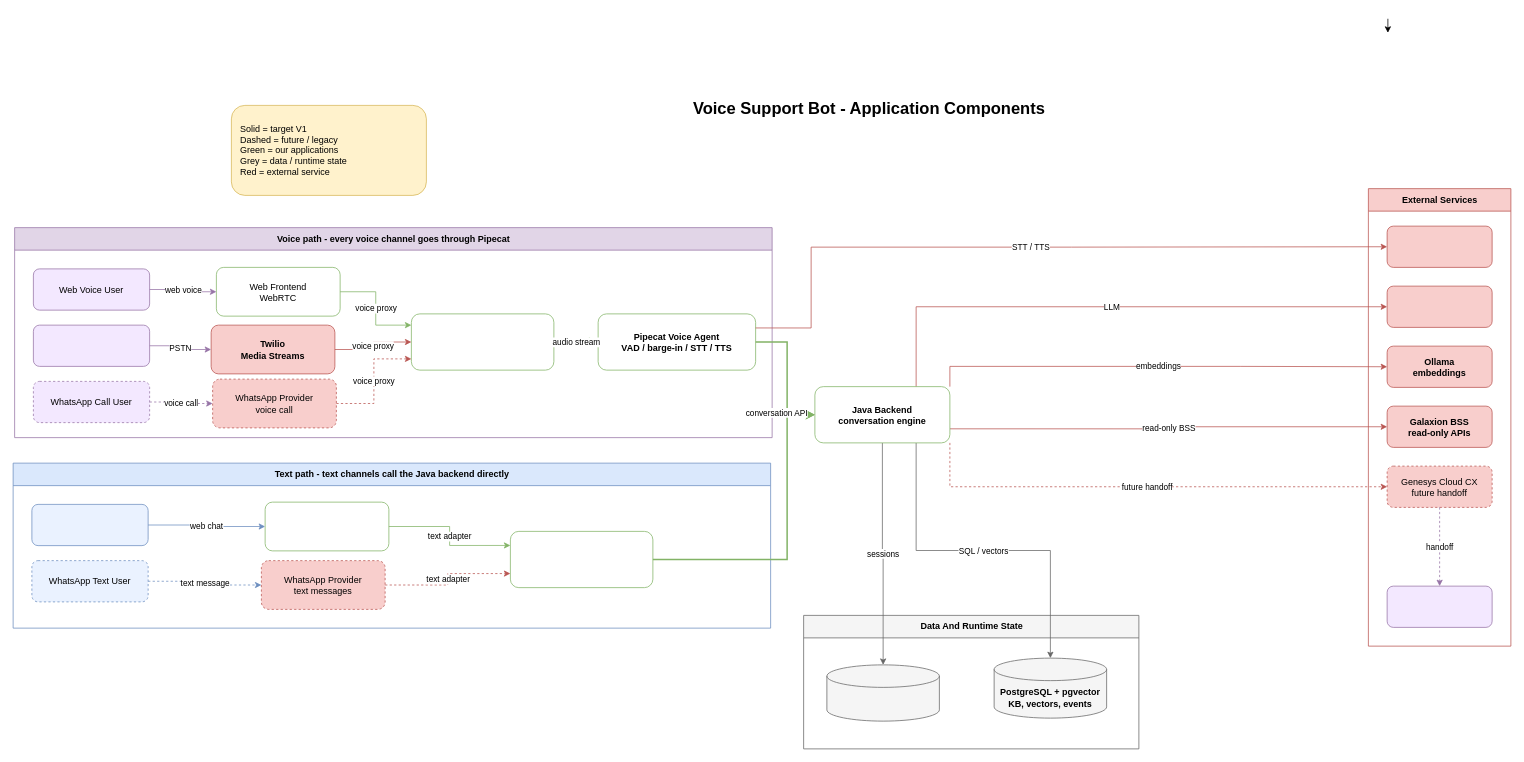
Some shapes in this 1524 by 762 pixel diagram are drawn without their labels. The shapes that lost their labels are listed below. From the top down, each one's centre as x and y in pixels, then its label:
point 1439,246: Gradium STT / TTS
point 1439,306: Mistral AI chat LLM
point 91,345: Phone User
point 482,341: Voice Channel Proxies normalize audio sessions
point 89,525: Web Chat User
point 326,526: Web Frontend text chat
point 581,559: Text Channel Adapters normalize messages
point 1439,606: Human Agent
point 882,692: Redis active sessions
